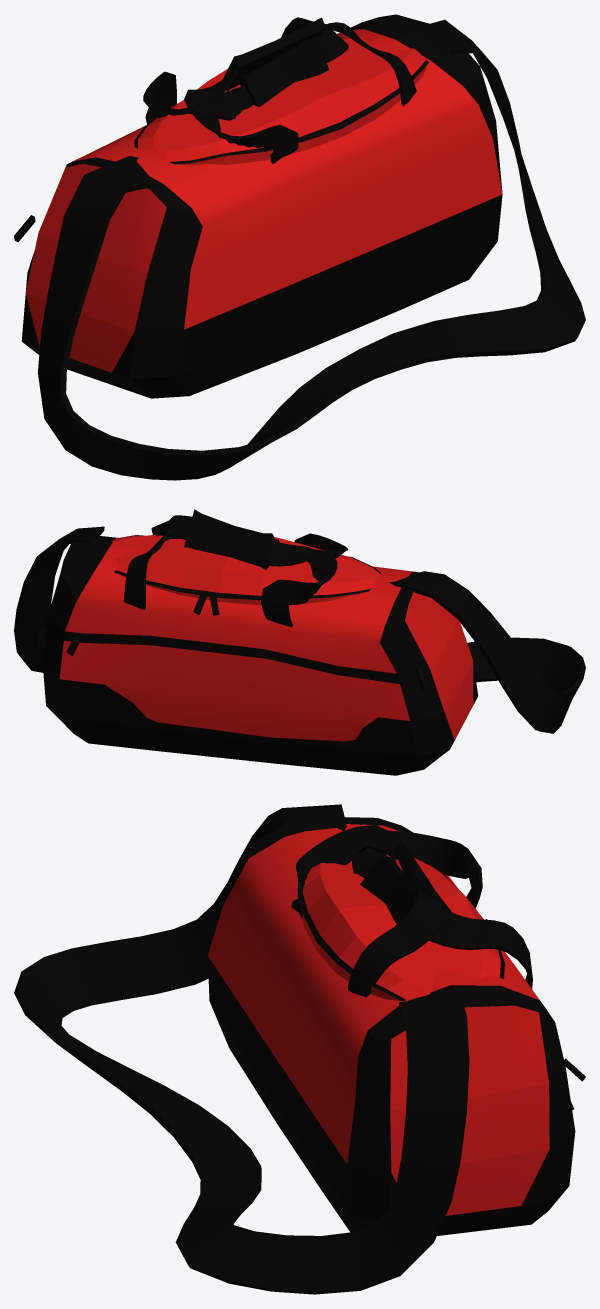
File: Maleta deporte.glb
The picture shows the model from 3 angles, top to bottom: view 1: azimuth 30°, elevation 25°; view 2: azimuth 150°, elevation 25°; view 3: azimuth 270°, elevation 25°; orthographic projection. The views are drawn at different scales.
Visible parts, largest first — view 1: Cama_Maleta deporte; view 2: Cama_Maleta deporte; view 3: Cama_Maleta deporte.
Part boxes in pixels (x1,y1,x2,y2): Cama_Maleta deporte: (14, 14, 585, 480); Cama_Maleta deporte: (14, 509, 585, 775); Cama_Maleta deporte: (14, 804, 585, 1294).
Bounding box in the file's own units: 1.62 × 0.7656 × 1.26.
